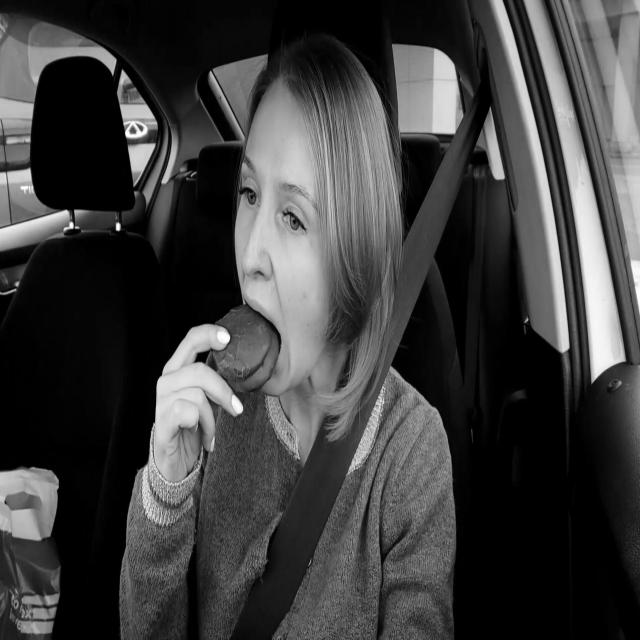Eating: (210, 296, 282, 396)
Seatbelt: (232, 74, 492, 640)
